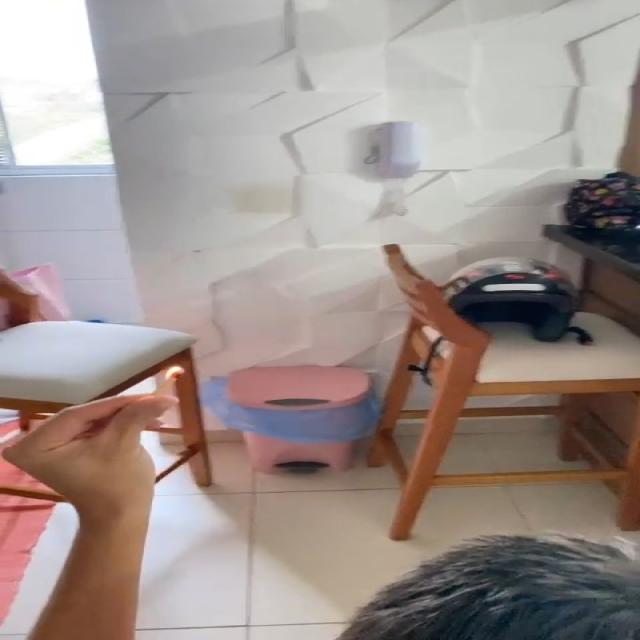fogo-ypXI: (164, 364, 185, 381)
